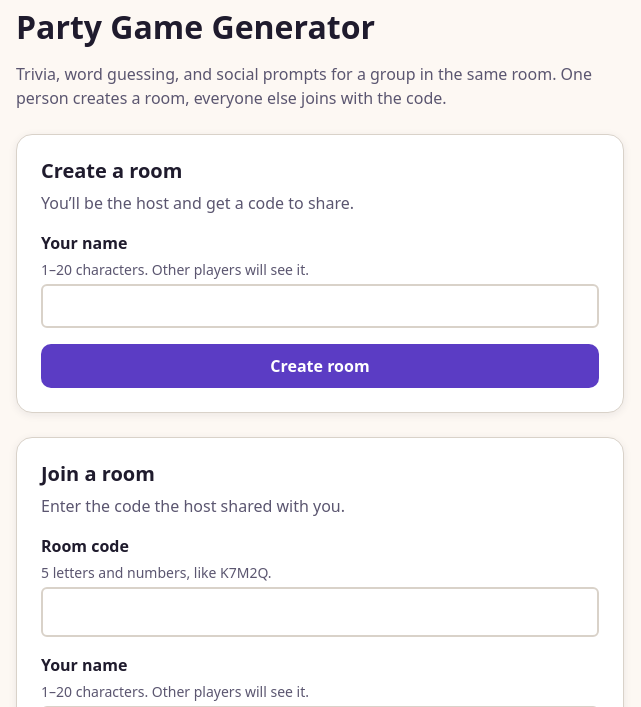
Test: Create room form › blocks an empty name with a message
The image size is (641, 707).
Click the button "Create room" at coordinates (320, 366), box [41, 344, 599, 388]
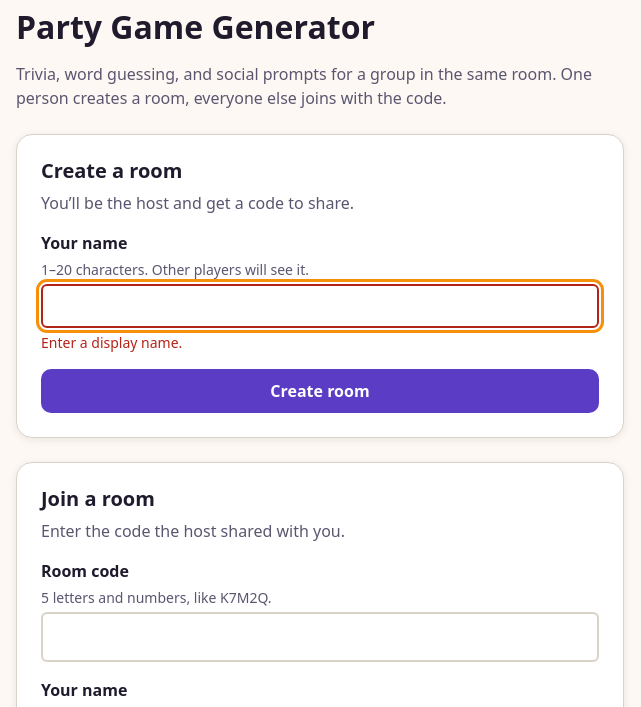
Now the message reads "Enter a display name.", box [41, 333, 182, 352]
